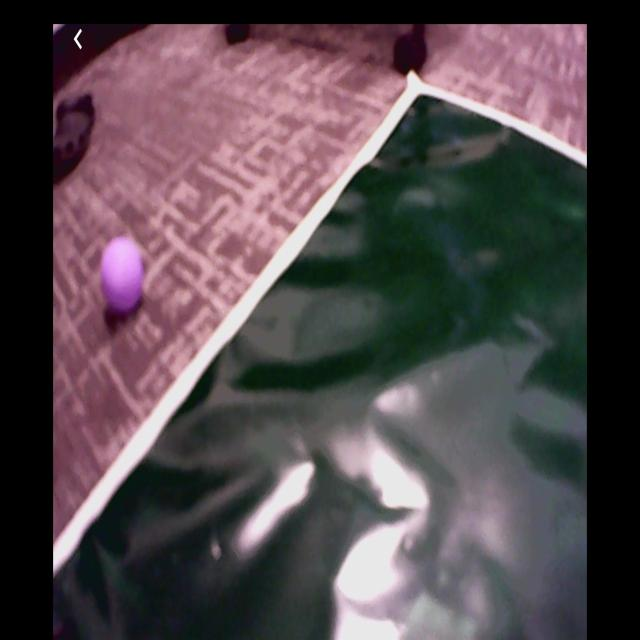ball: (100, 236, 144, 314)
